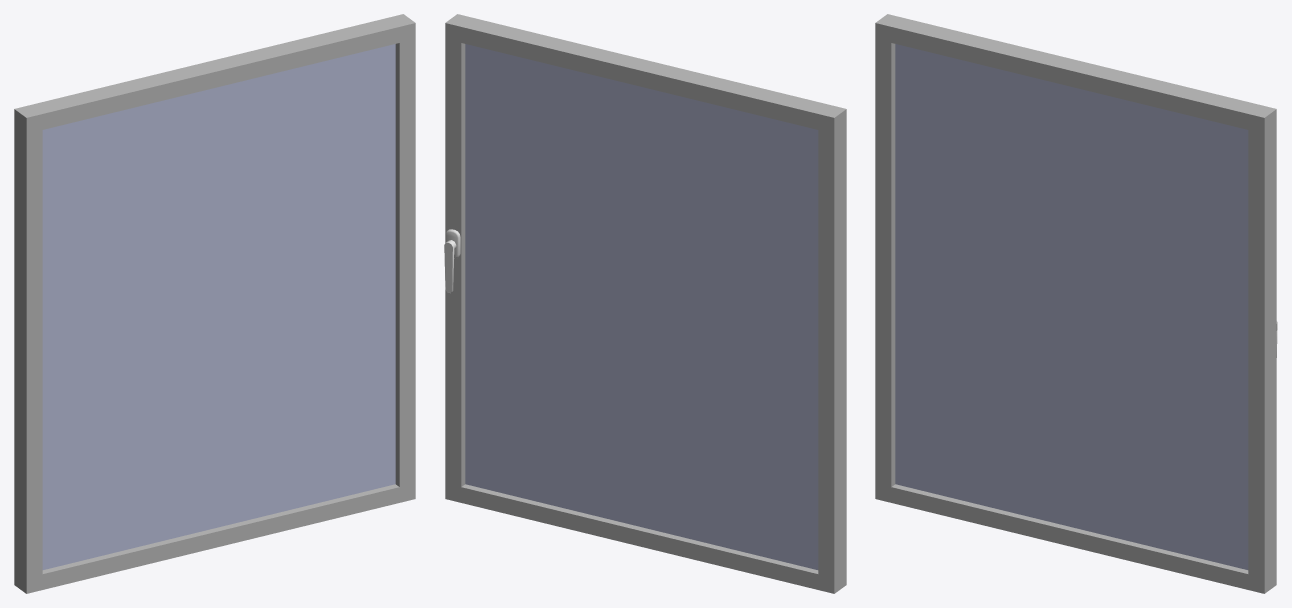
Rendered from Window_04_A_SM.FBX.
3 renders of one model, left to right at view 1: azimuth 30°, elevation 25°; view 2: azimuth 150°, elevation 25°; view 3: azimuth 330°, elevation 25°, orthographic.
Visible parts, largest first — view 1: Window_04_A_SM; view 2: Window_04_A_SM; view 3: Window_04_A_SM.
Part boxes in pixels (bbox=[...]): Window_04_A_SM: bbox=[14, 14, 415, 593]; Window_04_A_SM: bbox=[444, 14, 846, 593]; Window_04_A_SM: bbox=[875, 14, 1277, 593].
Bounding box in the file's own units: 167 × 12.77 × 196.
